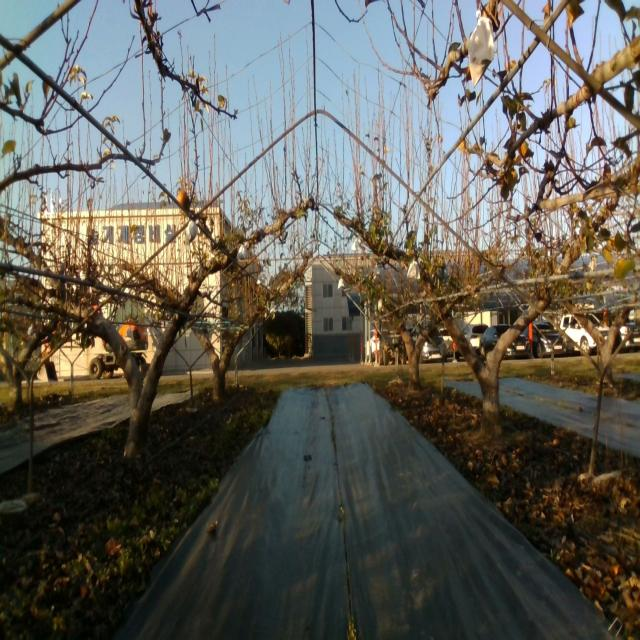pearbags: (468, 9, 496, 93), (186, 218, 200, 244), (406, 256, 421, 280), (236, 241, 248, 261)
